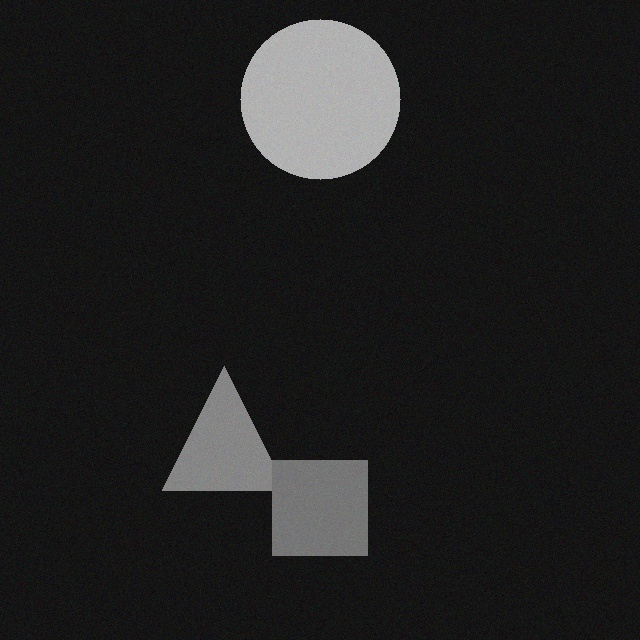circle: (254, 15, 414, 175)
square: (286, 456, 381, 551)
triangle: (176, 362, 300, 486)
